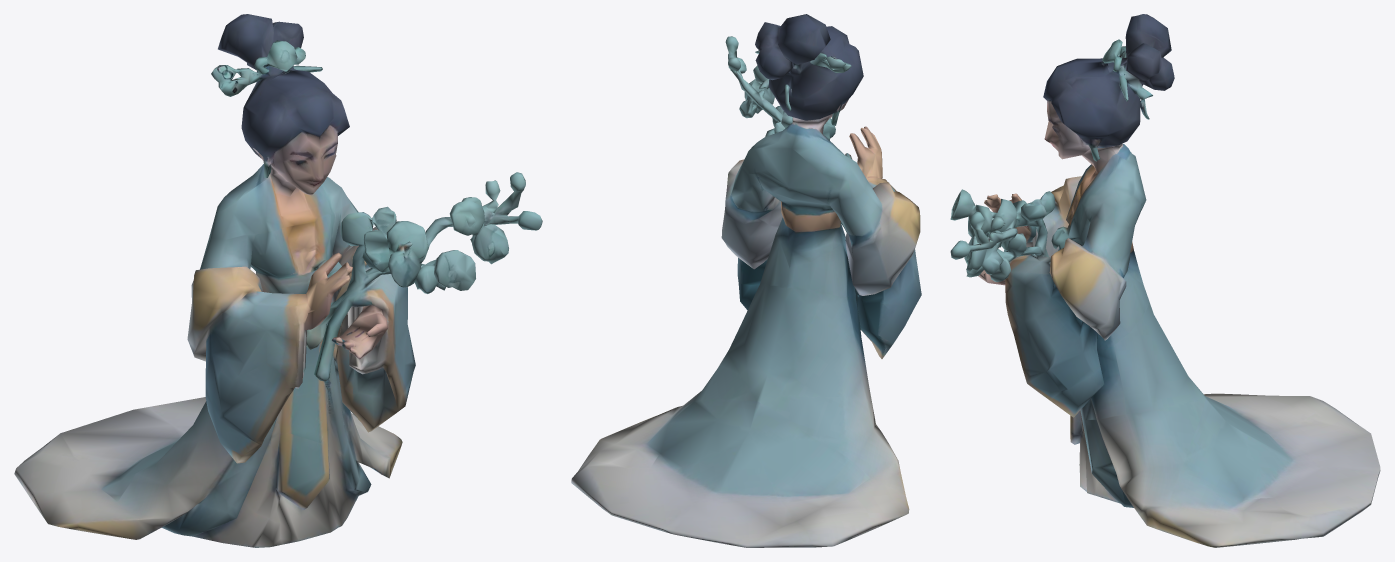
File: ss_dexiu.glb
3 views of the same model, side by side, from view 1: azimuth 30°, elevation 25°; view 2: azimuth 150°, elevation 25°; view 3: azimuth 270°, elevation 25° (orthographic). The views are drawn at different scales.
Parts seen in each view (by area): view 1: tripo_node_9b505ce9-e19e-4853-a7ae-262ca61d6d48; view 2: tripo_node_9b505ce9-e19e-4853-a7ae-262ca61d6d48; view 3: tripo_node_9b505ce9-e19e-4853-a7ae-262ca61d6d48.
Boxes of the visible parts, bbox=[...] form: tripo_node_9b505ce9-e19e-4853-a7ae-262ca61d6d48: bbox=[14, 14, 542, 547]; tripo_node_9b505ce9-e19e-4853-a7ae-262ca61d6d48: bbox=[571, 14, 921, 547]; tripo_node_9b505ce9-e19e-4853-a7ae-262ca61d6d48: bbox=[950, 14, 1380, 547].
Size of the model in its own units: 0.7289 by 0.9987 by 0.8601.
1 material, 1 textured.
